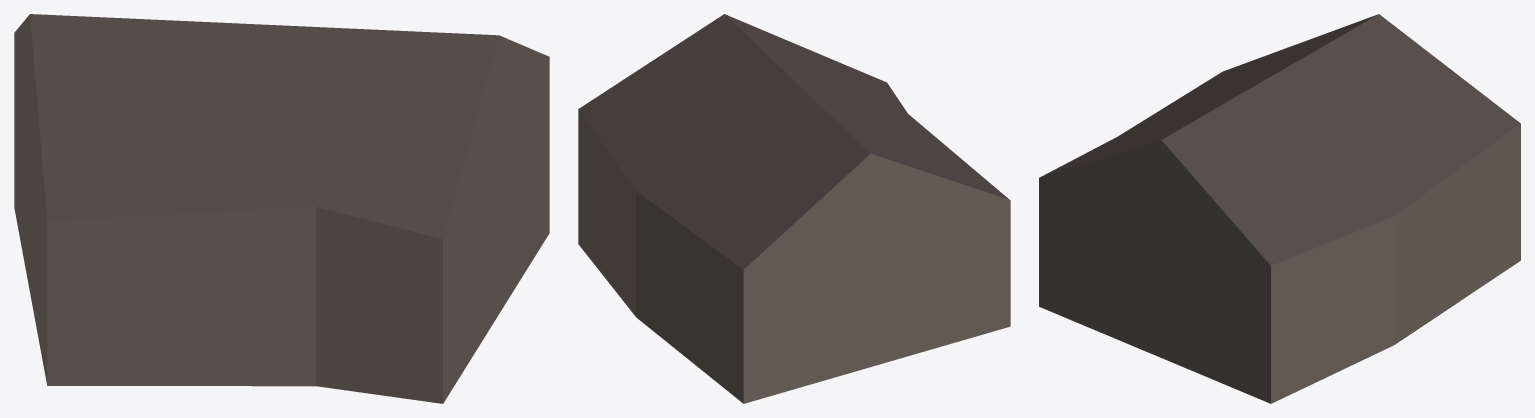
The picture shows the model from 3 angles, left to right: view 1: azimuth 30°, elevation 25°; view 2: azimuth 150°, elevation 25°; view 3: azimuth 270°, elevation 25°; orthographic projection. The views are drawn at different scales.
Visible parts, largest first — view 1: HP-w858807444; view 2: HP-w858807444; view 3: HP-w858807444.
Part boxes in pixels (x1,y1,x2,y2): HP-w858807444: (14, 14, 549, 403); HP-w858807444: (578, 14, 1010, 403); HP-w858807444: (1039, 14, 1520, 403).
Bounding box in the file's own units: 20.32 × 10.15 × 20.33.
